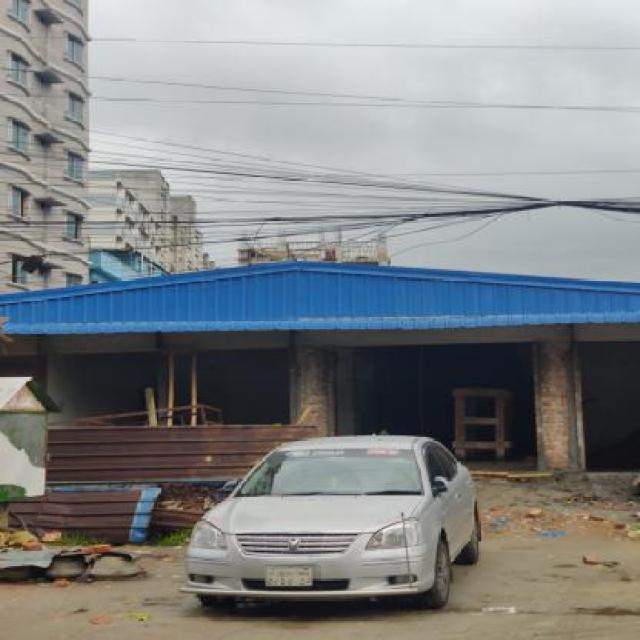numberplate: (264, 563, 318, 588)
